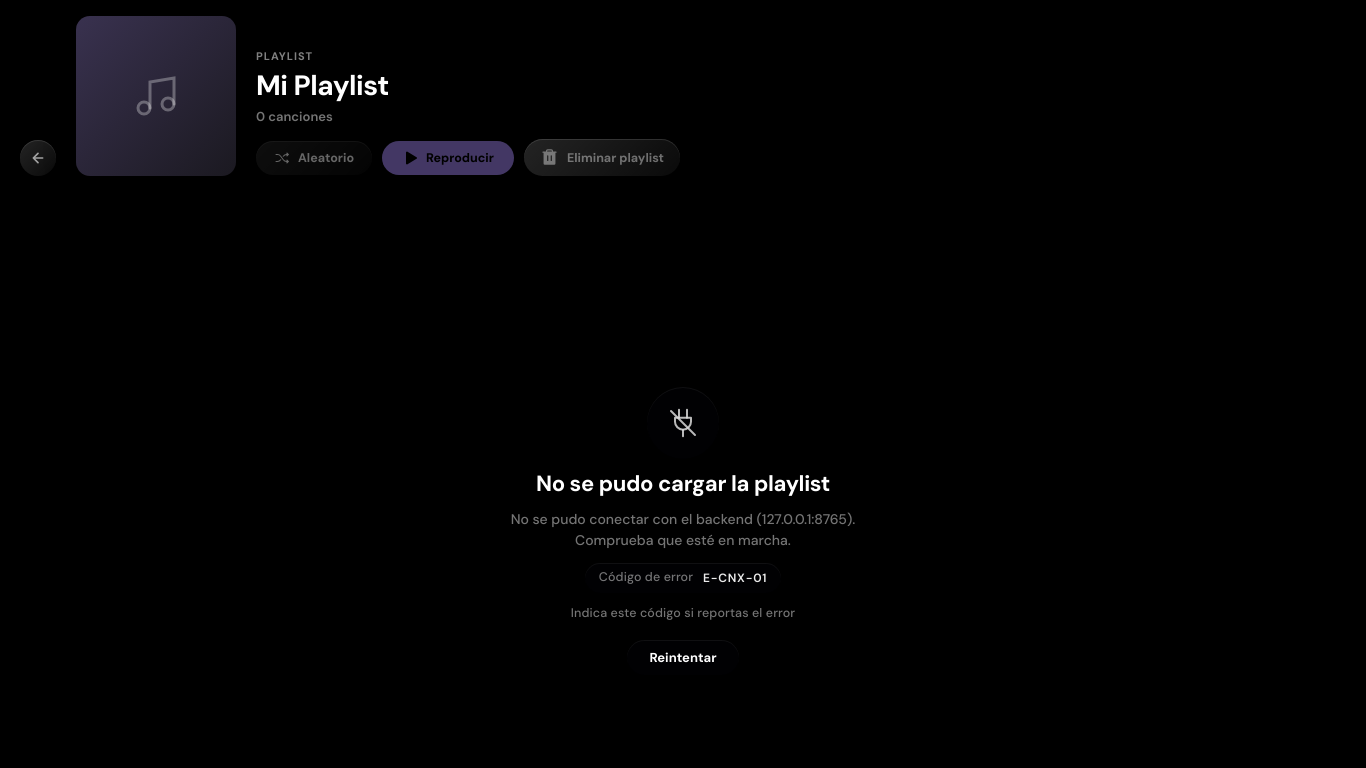
PlaylistView › un fallo de carga muestra estado de error con Reintentar, nunca «vacía»
Expected: the message with test id "status-state" is shown, x1=511 y1=387 x2=855 y2=675
Expected: the text "No se pudo cargar la playlist" is shown, x1=536 y1=471 x2=830 y2=497
// Reintentar vuelve a pedir las canciones y renderiza la lista
Step 1. Click the button with test id "status-retry" → (683, 658), box x1=628 y1=640 x2=739 y2=675
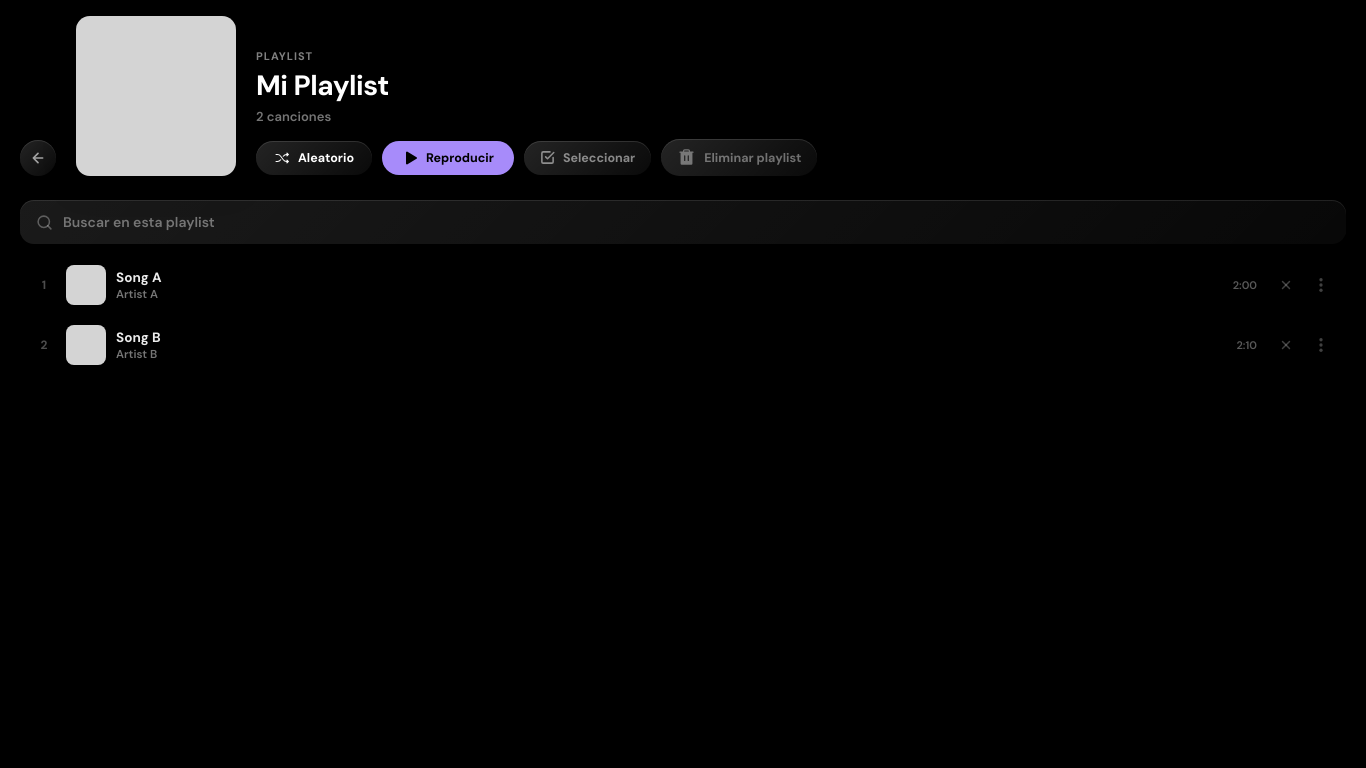
Expected: the text "Song A" is shown, x1=116 y1=268 x2=162 y2=286
